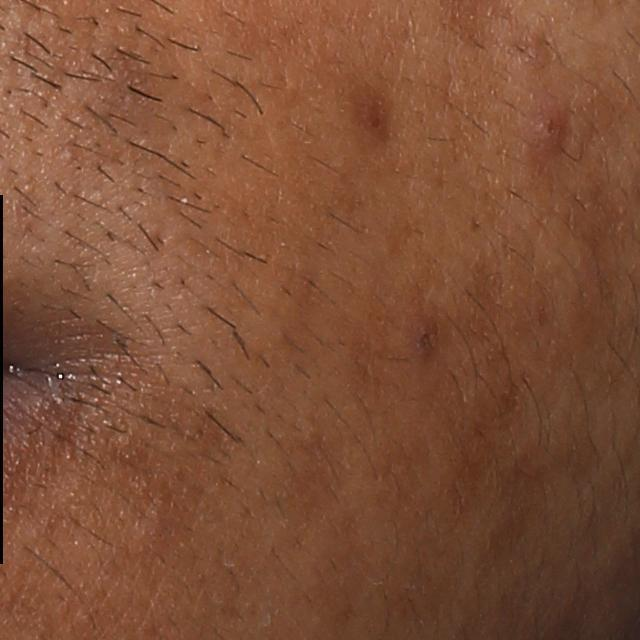papule: (518, 102, 573, 150)
